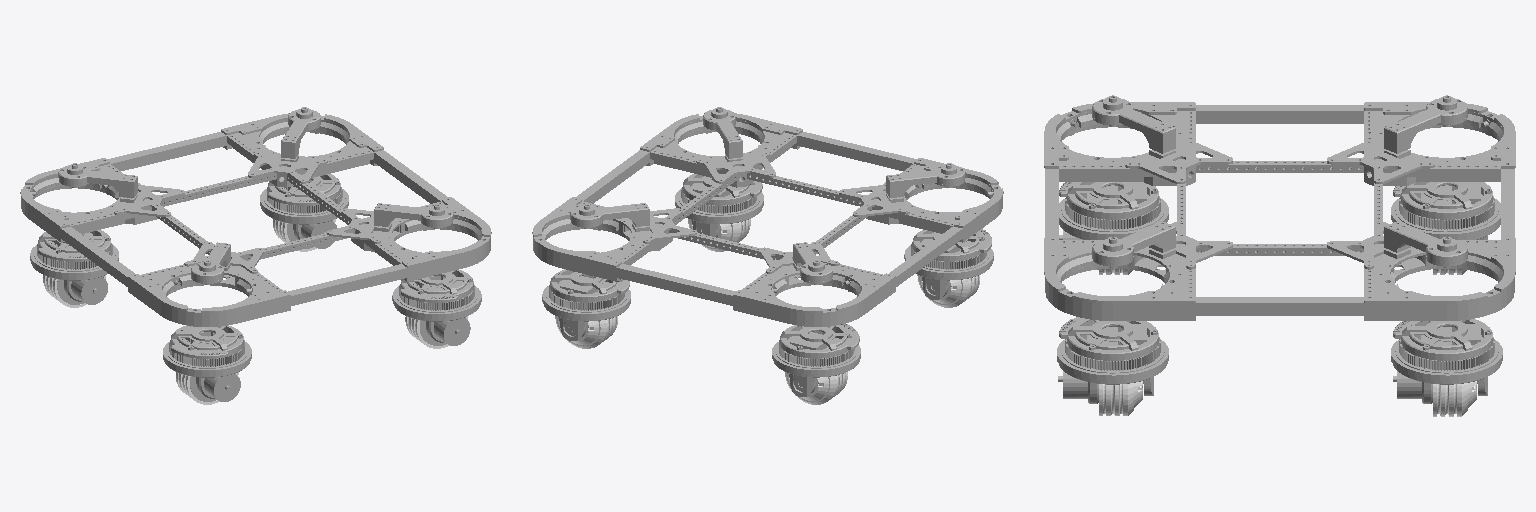
robot.urdf — swerve_urdf:
<?xml version="1.0" encoding="utf-8"?>
<!-- This URDF was automatically created by SolidWorks to URDF Exporter! Originally created by [author] ([email redacted]) 
     Commit Version: 1.6.0-4-g7f85cfe  Build Version: 1.6.7995.38578
     For more information, please see http://wiki.ros.org/sw_urdf_exporter -->
<robot
  name="swerve_urdf">
  <link
    name="base_link">
    <inertial>
      <origin
        xyz="2.40779618465581E-15 -2.69873359770578E-12 -0.0140722157893813"
        rpy="0 0 0" />
      <mass
        value="6.28477706893758" />
      <inertia
        ixx="0.00639339578717678"
        ixy="-7.22703370380633E-08"
        ixz="-2.37830826332407E-10"
        iyy="0.0118818754217734"
        iyz="1.02394838034462E-18"
        izz="0.016753490897147" />
    </inertial>
    <visual>
      <origin
        xyz="0 0 0"
        rpy="0 0 0" />
      <geometry>
        <mesh
          filename="package://swerve_urdf/meshes/base_link.STL" />
      </geometry>
      <material
        name="">
        <color
          rgba="0.752941176470588 0.752941176470588 0.752941176470588 1" />
      </material>
    </visual>
    <collision>
      <origin
        xyz="0 0 0"
        rpy="0 0 0" />
      <geometry>
        <mesh
          filename="package://swerve_urdf/meshes/base_link.STL" />
      </geometry>
    </collision>
  </link>
  <link
    name="steer1">
    <inertial>
      <origin
        xyz="-0.000131914075338496 -0.0122200983849753 -0.0416849527366595"
        rpy="0 0 0" />
      <mass
        value="1.11397042751292" />
      <inertia
        ixx="0.000631499796138263"
        ixy="-3.01039870726653E-06"
        ixz="-5.35159180169631E-08"
        iyy="0.000512110896770031"
        iyz="-6.29881109906842E-07"
        izz="0.000793070567248552" />
    </inertial>
    <visual>
      <origin
        xyz="0 0 0"
        rpy="0 0 0" />
      <geometry>
        <mesh
          filename="package://swerve_urdf/meshes/steer1.STL" />
      </geometry>
      <material
        name="">
        <color
          rgba="0.752941176470588 0.752941176470588 0.752941176470588 1" />
      </material>
    </visual>
    <collision>
      <origin
        xyz="0 0 0"
        rpy="0 0 0" />
      <geometry>
        <mesh
          filename="package://swerve_urdf/meshes/steer1.STL" />
      </geometry>
    </collision>
  </link>
  <joint
    name="steer1_joint"
    type="continuous">
    <origin
      xyz="0.178 -0.178 0.01157"
      rpy="0 0 0" />
    <parent
      link="base_link" />
    <child
      link="steer1" />
    <axis
      xyz="0 0 1" />
    <limit
      lower="0"
      upper="0"
      effort="7"
      velocity="40" />
  </joint>
  <link
    name="drive1">
    <inertial>
      <origin
        xyz="1.91334549257127E-06 7.10945191606527E-13 -0.00311266095149038"
        rpy="0 0 0" />
      <mass
        value="0.0930124943189411" />
      <inertia
        ixx="5.6816337497713E-05"
        ixy="2.29831118003764E-14"
        ixz="-3.67740278694651E-09"
        iyy="5.66303681233321E-05"
        iyz="-8.66600737999934E-14"
        izz="8.81040187352088E-05" />
    </inertial>
    <visual>
      <origin
        xyz="0 0 0"
        rpy="0 0 0" />
      <geometry>
        <mesh
          filename="package://swerve_urdf/meshes/drive1.STL" />
      </geometry>
      <material
        name="">
        <color
          rgba="1 1 1 0.35" />
      </material>
    </visual>
    <collision>
      <origin
        xyz="0 0 0"
        rpy="0 0 0" />
      <geometry>
        <mesh
          filename="package://swerve_urdf/meshes/drive1.STL" />
      </geometry>
    </collision>
  </link>
  <joint
    name="drive1_joint"
    type="continuous">
    <origin
      xyz="0 0.016 -0.04757"
      rpy="1.5708 0 3.1416" />
    <parent
      link="steer1" />
    <child
      link="drive1" />
    <axis
      xyz="0 0 1" />
    <limit
      effort="4.5"
      velocity="52" />
  </joint>
  <link
    name="steer2">
    <inertial>
      <origin
        xyz="-0.000131914075338718 -0.0122200983849753 -0.0416849527366605"
        rpy="0 0 0" />
      <mass
        value="1.11397042751292" />
      <inertia
        ixx="0.000631499796138262"
        ixy="-3.01039870726682E-06"
        ixz="-5.35159180162628E-08"
        iyy="0.00051211089677003"
        iyz="-6.29881109906671E-07"
        izz="0.000793070567248551" />
    </inertial>
    <visual>
      <origin
        xyz="0 0 0"
        rpy="0 0 0" />
      <geometry>
        <mesh
          filename="package://swerve_urdf/meshes/steer2.STL" />
      </geometry>
      <material
        name="">
        <color
          rgba="0.752941176470588 0.752941176470588 0.752941176470588 1" />
      </material>
    </visual>
    <collision>
      <origin
        xyz="0 0 0"
        rpy="0 0 0" />
      <geometry>
        <mesh
          filename="package://swerve_urdf/meshes/steer2.STL" />
      </geometry>
    </collision>
  </link>
  <joint
    name="steer2_joint"
    type="continuous">
    <origin
      xyz="0.178 0.178 0.01157"
      rpy="0 0 0" />
    <parent
      link="base_link" />
    <child
      link="steer2" />
    <axis
      xyz="0 0 1" />
    <limit
      lower="0"
      upper="0"
      effort="7"
      velocity="40" />
  </joint>
  <link
    name="drive2">
    <inertial>
      <origin
        xyz="-1.91334549204392E-06 -7.12180314721422E-13 -0.00311266095149038"
        rpy="0 0 0" />
      <mass
        value="0.093012494318941" />
      <inertia
        ixx="5.68163374977129E-05"
        ixy="2.29831097153534E-14"
        ixz="3.67740278743689E-09"
        iyy="5.66303681233321E-05"
        iyz="8.66600625909693E-14"
        izz="8.81040187352087E-05" />
    </inertial>
    <visual>
      <origin
        xyz="0 0 0"
        rpy="0 0 0" />
      <geometry>
        <mesh
          filename="package://swerve_urdf/meshes/drive2.STL" />
      </geometry>
      <material
        name="">
        <color
          rgba="1 1 1 0.35" />
      </material>
    </visual>
    <collision>
      <origin
        xyz="0 0 0"
        rpy="0 0 0" />
      <geometry>
        <mesh
          filename="package://swerve_urdf/meshes/drive2.STL" />
      </geometry>
    </collision>
  </link>
  <joint
    name="drive2_joint"
    type="continuous">
    <origin
      xyz="0 0.0159999999998658 -0.0475700189392043"
      rpy="1.5707963267949 0 3.14159265358978" />
    <parent
      link="steer2" />
    <child
      link="drive2" />
    <axis
      xyz="0 0 1" />
    <limit
      effort="4.5"
      velocity="52" />
  </joint>
  <link
    name="steer3">
    <inertial>
      <origin
        xyz="-0.000131914075338802 -0.0122200983849752 -0.0416849527366605"
        rpy="0 0 0" />
      <mass
        value="1.11397042751292" />
      <inertia
        ixx="0.000631499796138263"
        ixy="-3.01039870726774E-06"
        ixz="-5.3515918016257E-08"
        iyy="0.000512110896770031"
        iyz="-6.29881109906849E-07"
        izz="0.000793070567248552" />
    </inertial>
    <visual>
      <origin
        xyz="0 0 0"
        rpy="0 0 0" />
      <geometry>
        <mesh
          filename="package://swerve_urdf/meshes/steer3.STL" />
      </geometry>
      <material
        name="">
        <color
          rgba="0.752941176470588 0.752941176470588 0.752941176470588 1" />
      </material>
    </visual>
    <collision>
      <origin
        xyz="0 0 0"
        rpy="0 0 0" />
      <geometry>
        <mesh
          filename="package://swerve_urdf/meshes/steer3.STL" />
      </geometry>
    </collision>
  </link>
  <joint
    name="steer3_joint"
    type="continuous">
    <origin
      xyz="-0.178 0.178 0.01157"
      rpy="0 0 0" />
    <parent
      link="base_link" />
    <child
      link="steer3" />
    <axis
      xyz="0 0 1" />
    <limit
      lower="0"
      upper="0"
      effort="7"
      velocity="40" />
  </joint>
  <link
    name="drive3">
    <inertial>
      <origin
        xyz="1.91334552174238E-06 0.0128873390483754 -0.0475700189399181"
        rpy="0 0 0" />
      <mass
        value="0.0930124943189412" />
      <inertia
        ixx="5.68163374977131E-05"
        ixy="-3.67740278678929E-09"
        ixz="-2.29831097367817E-14"
        iyy="8.81040187352089E-05"
        iyz="8.66600688067604E-14"
        izz="5.66303681233322E-05" />
    </inertial>
    <visual>
      <origin
        xyz="0 0 0"
        rpy="0 0 0" />
      <geometry>
        <mesh
          filename="package://swerve_urdf/meshes/drive3.STL" />
      </geometry>
      <material
        name="">
        <color
          rgba="1 1 1 0.35" />
      </material>
    </visual>
    <collision>
      <origin
        xyz="0 0 0"
        rpy="0 0 0" />
      <geometry>
        <mesh
          filename="package://swerve_urdf/meshes/drive3.STL" />
      </geometry>
    </collision>
  </link>
  <joint
    name="drive3_joint"
    type="continuous">
    <origin
      xyz="0 0 0"
      rpy="0 0 0" />
    <parent
      link="steer3" />
    <child
      link="drive3" />
    <axis
      xyz="0 1 0" />
    <limit
      effort="4.5"
      velocity="52" />
  </joint>
  <link
    name="steer4">
    <inertial>
      <origin
        xyz="-0.000131914075338829 -0.0122200983849752 -0.0416849527366605"
        rpy="0 0 0" />
      <mass
        value="1.11397042751292" />
      <inertia
        ixx="0.000631499796138263"
        ixy="-3.01039870726787E-06"
        ixz="-5.35159180162538E-08"
        iyy="0.000512110896770031"
        iyz="-6.29881109906812E-07"
        izz="0.000793070567248551" />
    </inertial>
    <visual>
      <origin
        xyz="0 0 0"
        rpy="0 0 0" />
      <geometry>
        <mesh
          filename="package://swerve_urdf/meshes/steer4.STL" />
      </geometry>
      <material
        name="">
        <color
          rgba="0.752941176470588 0.752941176470588 0.752941176470588 1" />
      </material>
    </visual>
    <collision>
      <origin
        xyz="0 0 0"
        rpy="0 0 0" />
      <geometry>
        <mesh
          filename="package://swerve_urdf/meshes/steer4.STL" />
      </geometry>
    </collision>
  </link>
  <joint
    name="steer4_joint"
    type="continuous">
    <origin
      xyz="-0.178000000000025 -0.17799999999987 0.0115700189392049"
      rpy="0 0 0" />
    <parent
      link="base_link" />
    <child
      link="steer4" />
    <axis
      xyz="0 0 1" />
    <limit
      lower="0"
      upper="0"
      effort="7"
      velocity="40" />
  </joint>
  <link
    name="drive4">
    <inertial>
      <origin
        xyz="1.91334549240474E-06 7.10272118897848E-13 -0.0031126609514904"
        rpy="0 0 0" />
      <mass
        value="0.093012494318941" />
      <inertia
        ixx="5.68163374977129E-05"
        ixy="2.29831098767291E-14"
        ixz="-3.67740278665974E-09"
        iyy="5.6630368123332E-05"
        iyz="-8.66600524254585E-14"
        izz="8.81040187352088E-05" />
    </inertial>
    <visual>
      <origin
        xyz="0 0 0"
        rpy="0 0 0" />
      <geometry>
        <mesh
          filename="package://swerve_urdf/meshes/drive4.STL" />
      </geometry>
      <material
        name="">
        <color
          rgba="1 1 1 0.35" />
      </material>
    </visual>
    <collision>
      <origin
        xyz="0 0 0"
        rpy="0 0 0" />
      <geometry>
        <mesh
          filename="package://swerve_urdf/meshes/drive4.STL" />
      </geometry>
    </collision>
  </link>
  <joint
    name="drive4_joint"
    type="continuous">
    <origin
      xyz="0 0.0159999999998658 -0.0475700189392043"
      rpy="1.5707963267949 0 3.14159265358977" />
    <parent
      link="steer4" />
    <child
      link="drive4" />
    <axis
      xyz="0 0 1" />
    <limit
      effort="4.5"
      velocity="52" />
  </joint>
</robot>

--- What the picture shows (computed from the rendered views, not written in the file) ---
Views: 3 orthographic renders of the robot side by side, from view 1: azimuth 30°, elevation 25°; view 2: azimuth 150°, elevation 25°; view 3: azimuth 270°, elevation 25°.
Model swerve_urdf with 9 links and 8 joints (8 continuous), rooted at base_link, posed every joint at zero.
Links seen in each view (by area): view 1: base_link, steer4, steer1, steer3, steer2; view 2: base_link, steer3, steer2, steer4, steer1, drive4, drive2, drive3, drive1; view 3: base_link, steer1, steer2, steer4, steer3, drive2, drive1.
Link boxes in pixels (x1,y1,x2,y2): base_link: (20, 107, 491, 326); steer4: (163, 325, 251, 401); steer1: (392, 270, 481, 345); steer3: (30, 230, 118, 304); steer2: (260, 174, 348, 248); base_link: (532, 107, 1003, 326); steer3: (772, 324, 860, 396); steer2: (542, 269, 630, 340); steer4: (904, 228, 993, 299); steer1: (675, 174, 763, 237); drive4: (917, 275, 979, 307); drive2: (555, 316, 617, 348); drive3: (785, 372, 847, 404); drive1: (688, 219, 750, 251); base_link: (1044, 95, 1515, 320); steer1: (1057, 317, 1168, 403); steer2: (1391, 319, 1502, 403); steer4: (1059, 182, 1168, 239); steer3: (1391, 182, 1500, 239); drive2: (1433, 381, 1476, 416); drive1: (1099, 381, 1142, 415).
Bounding box of the posed robot: 0.502 × 0.502 × 0.2053 m (x, y, z).
9 mesh visuals loaded from 9 distinct referenced files (9 binary STL).